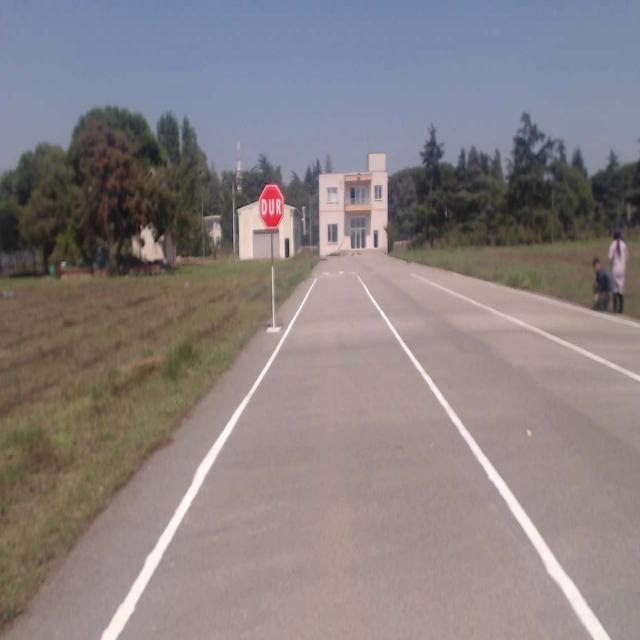dur: (260, 185, 286, 232)
